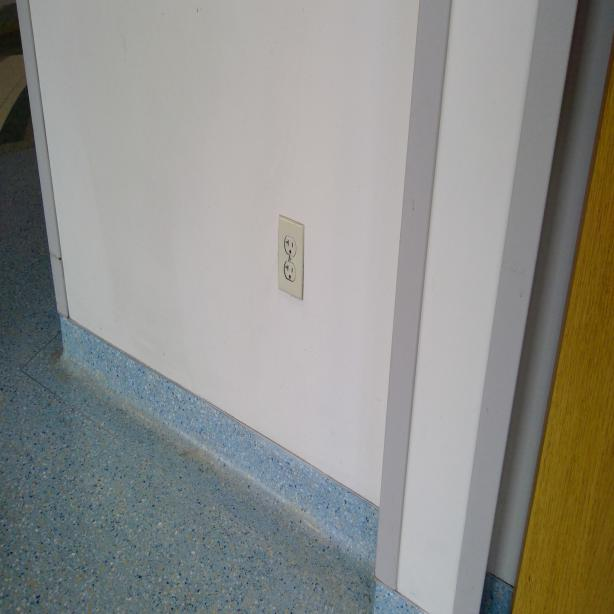typeb: (282, 261, 296, 284), (284, 234, 296, 258)
